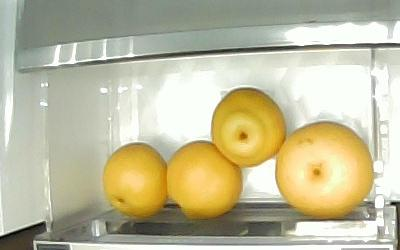pear: (274, 120, 373, 218), (165, 139, 243, 219), (209, 86, 286, 167), (101, 141, 168, 218)
